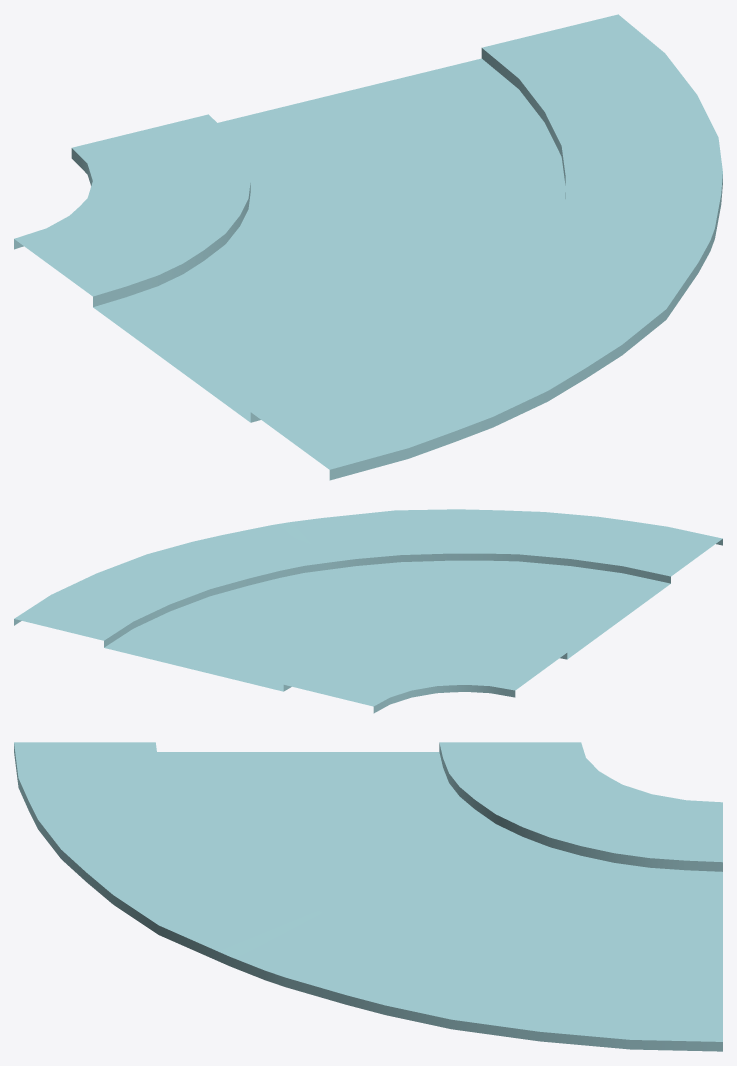
File: curve_road01.fbx
3 views of the same model, one above another, from view 1: azimuth 30°, elevation 25°; view 2: azimuth 150°, elevation 25°; view 3: azimuth 270°, elevation 25° (orthographic). The views are drawn at different scales.
Visible parts, largest first — view 1: polySurface20; view 2: polySurface20; view 3: polySurface20.
Boxes of the visible parts, x1,y1,x2,y2 form: polySurface20: [14, 14, 722, 480]; polySurface20: [14, 509, 722, 713]; polySurface20: [14, 742, 722, 1051].
Size of the model in its own units: 2000 by 30 by 2000.
